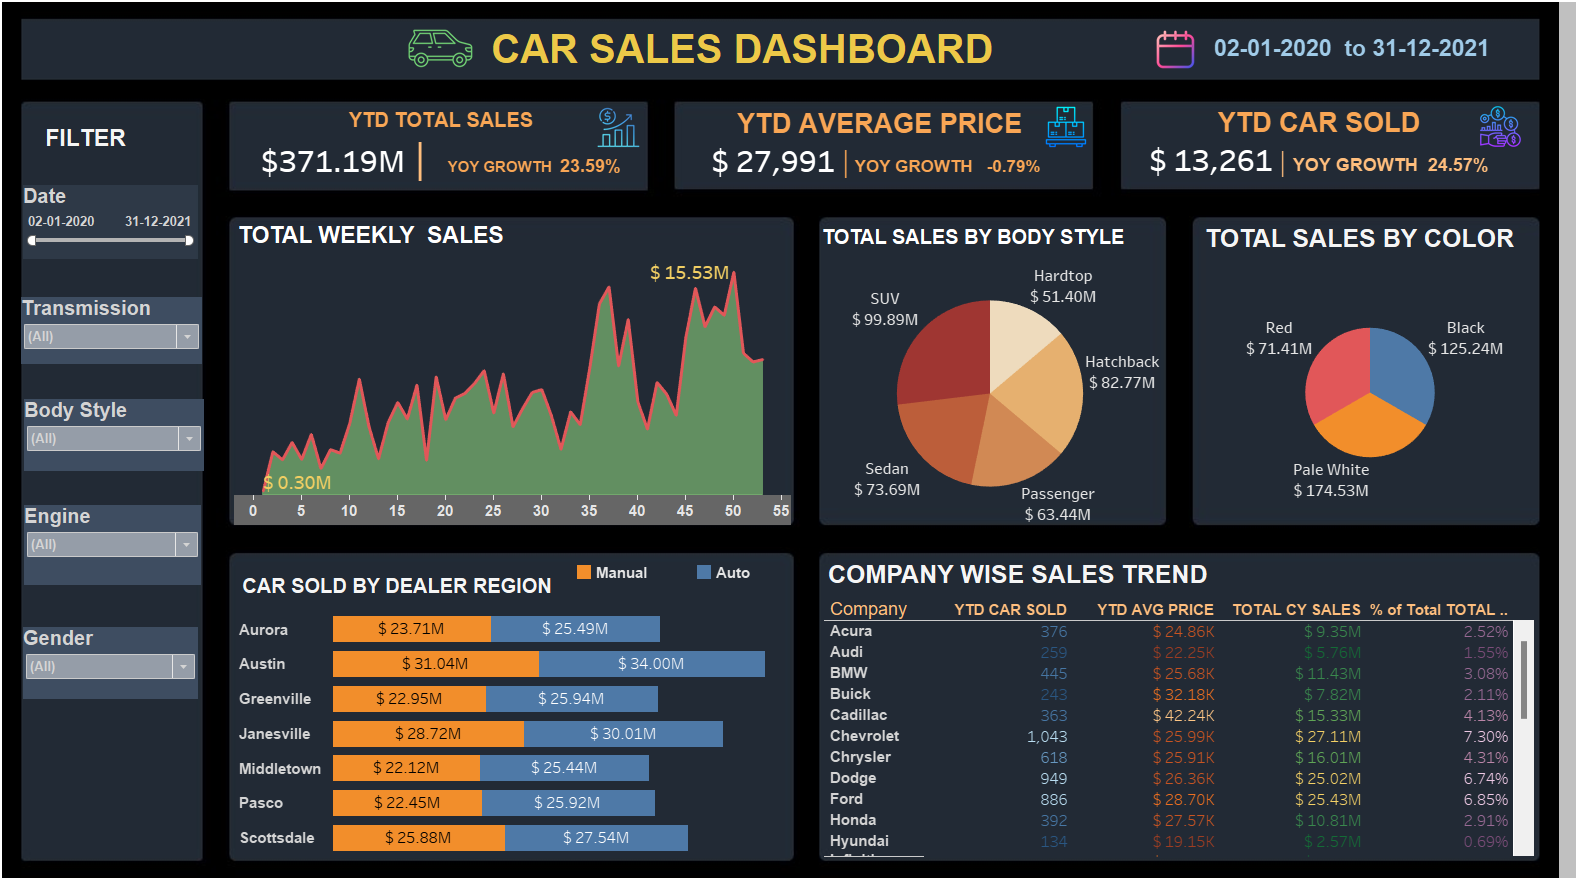

Layout of this report page (visuals, bound fields, positions):
{"tool":"tableau","page":{"name":"Dashboard 1","canvas":[1600,900],"ordinal":0},"visuals":[{"type":"image","param":"C:/Users/panta/Downloads/Car Sales Background.jpg","box":[8,8,1584,884]},{"type":"image","param":"C:/Users/panta/Desktop/CAR PROJECT TABLEAU/Images Used/Car Icon.png","box":[412,20,91,76]},{"type":"worksheet","title":"date","mark":"Automatic","box":[1163,28,397,60]},{"type":"image","param":"C:/Users/panta/Desktop/CAR PROJECT TABLEAU/Images Used/calendar.png","box":[1164,38,51,42]},{"type":"text","box":[497.9,40.2,535.3,39.1]},{"type":"worksheet","title":"CAR SOLD","mark":"Automatic","box":[1136,111,385,86]},{"type":"worksheet","title":"AVG C","mark":"Automatic","box":[692,112,387,86]},{"type":"worksheet","title":"PRICE","mark":"Automatic","box":[254,114,393,84]},{"type":"image","param":"C:/Users/panta/Desktop/CAR PROJECT TABLEAU/Images Used/Sales Icon.png","box":[604,115,54,46]},{"type":"image","param":"C:/Users/panta/Desktop/CAR PROJECT TABLEAU/Images Used/Avg Price Icon.png","box":[1048,115,48,43]},{"type":"image","param":"C:/Users/panta/Desktop/CAR PROJECT TABLEAU/Images Used/Cars Sold Icon.png","box":[1489,115,58,42]},{"type":"text","box":[52,122,150,53]},{"type":"filter","title":"SALES WEEKLY","param":"[federated.0f15jzz0fybocx12qyw3f07td1nw].[none:Date:qk]","box":[33,195,175,74]},{"type":"worksheet","title":"SALES WEEKLY","mark":"Bar","rows":["Calculation_1020346847233413121","Calculation_1020346847233413121"],"cols":["Date"],"box":[244,228,557,307]},{"type":"worksheet","title":"PIE CHART COLOR","mark":"Pie","box":[1211,230,338,302]},{"type":"worksheet","title":"PIE CHART","mark":"Pie","box":[828,232,344,305]},{"type":"filter","title":"SALES WEEKLY","param":"[federated.0f15jzz0fybocx12qyw3f07td1nw].[none:Transmission:nk]","box":[31,307,181,67]},{"type":"filter","title":"SALES WEEKLY","param":"[federated.0f15jzz0fybocx12qyw3f07td1nw].[none:Body Style:nk]","box":[34,409,180,72]},{"type":"filter","title":"SALES WEEKLY","param":"[federated.0f15jzz0fybocx12qyw3f07td1nw].[none:Engine:nk]","box":[34,515,177,80]},{"type":"worksheet","title":"COMPANY","mark":"Automatic","rows":["Company"],"box":[834,566,710,301]},{"type":"worksheet","title":"DEALER","mark":"Automatic","rows":["Dealer_Region"],"cols":["Calculation_1020346847233413121"],"box":[243,572,554,293]},{"type":"legend","title":"DEALER","param":"[federated.0f15jzz0fybocx12qyw3f07td1nw].[none:Transmission:nk]","box":[584,572,268,36]},{"type":"filter","title":"SALES WEEKLY","param":"[federated.0f15jzz0fybocx12qyw3f07td1nw].[none:Gender:nk]","box":[33,637,175,72]}]}

Visuals, with their boxes in screenshot pixels (x1, y1, x2, y2), scaled from the page's 1600x900 canvas onto the 1576x879 screenshot:
image: (x1=8, y1=8, x2=1568, y2=871)
image: (x1=406, y1=20, x2=495, y2=94)
"date" worksheet: (x1=1146, y1=27, x2=1537, y2=86)
image: (x1=1147, y1=37, x2=1197, y2=78)
text: (x1=490, y1=39, x2=1018, y2=77)
"CAR SOLD" worksheet: (x1=1119, y1=108, x2=1498, y2=192)
"AVG C" worksheet: (x1=682, y1=109, x2=1063, y2=193)
"PRICE" worksheet: (x1=250, y1=111, x2=637, y2=193)
image: (x1=595, y1=112, x2=648, y2=157)
image: (x1=1032, y1=112, x2=1080, y2=154)
image: (x1=1467, y1=112, x2=1524, y2=153)
text: (x1=51, y1=119, x2=199, y2=171)
"SALES WEEKLY" filter: (x1=33, y1=190, x2=205, y2=263)
"SALES WEEKLY" worksheet (Bar marks): (x1=240, y1=223, x2=789, y2=523)
"PIE CHART COLOR" worksheet (Pie marks): (x1=1193, y1=225, x2=1526, y2=520)
"PIE CHART" worksheet (Pie marks): (x1=816, y1=227, x2=1154, y2=524)
"SALES WEEKLY" filter: (x1=31, y1=300, x2=209, y2=365)
"SALES WEEKLY" filter: (x1=33, y1=399, x2=211, y2=470)
"SALES WEEKLY" filter: (x1=33, y1=503, x2=208, y2=581)
"COMPANY" worksheet: (x1=821, y1=553, x2=1521, y2=847)
"DEALER" worksheet: (x1=239, y1=559, x2=785, y2=845)
"DEALER" legend: (x1=575, y1=559, x2=839, y2=594)
"SALES WEEKLY" filter: (x1=33, y1=622, x2=205, y2=692)
